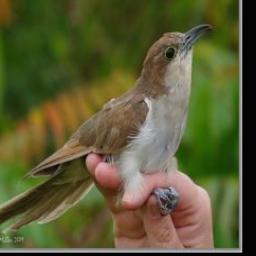Cuckoo: (0, 21, 212, 232)
